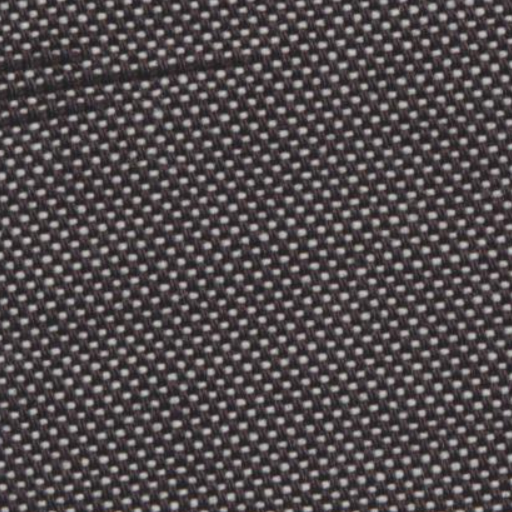DaiSha: (4, 24, 262, 131)
